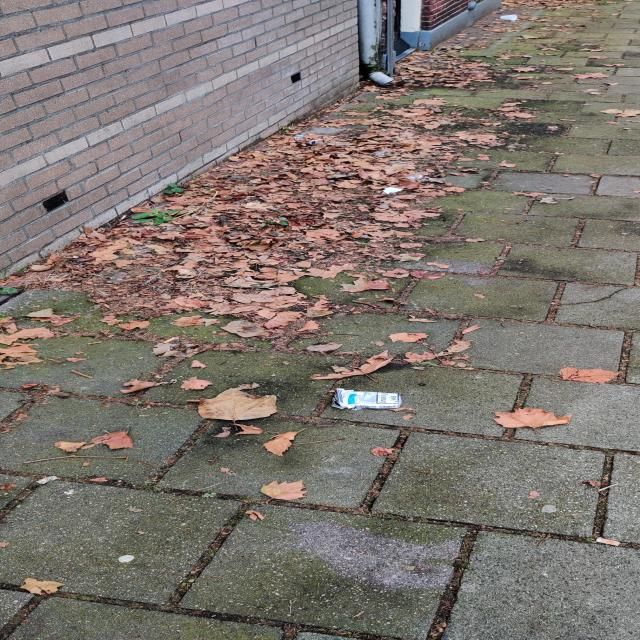litter: (333, 387, 401, 410), (290, 135, 322, 144), (501, 15, 518, 21), (405, 175, 423, 180)
